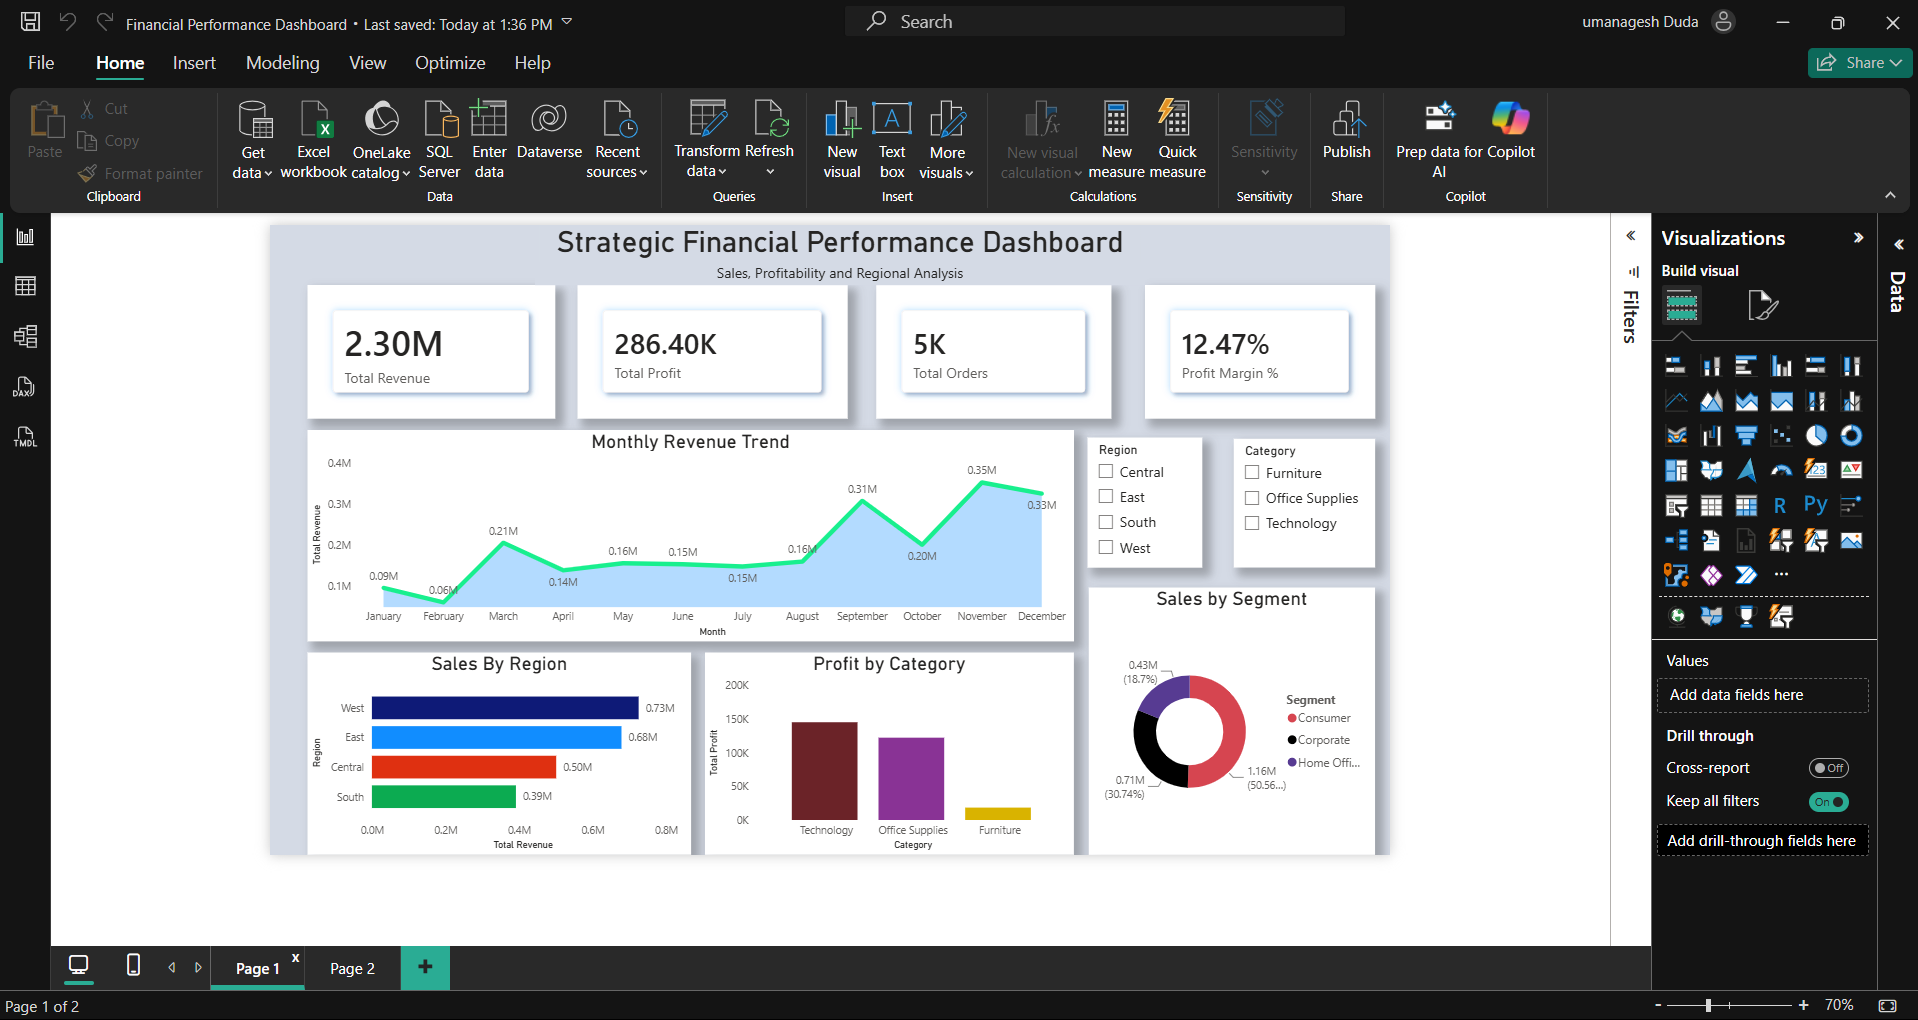

What the dashboard file says about the page in this screenshot:
{"tool":"powerbi","page":{"name":"Page 1","canvas":[1280,720],"ordinal":0},"visuals":[{"type":"cardVisual","fields":{"Data":["Sample - Superstore.Total Revenue"]},"box":[42.9,68.6,282.9,152.9],"z":0},{"type":"cardVisual","fields":{"Data":["Sample - Superstore.Total Profit"]},"box":[351.4,68.6,308.6,152.9],"z":1000},{"type":"cardVisual","fields":{"Data":["Sample - Superstore.Total Orders"]},"box":[692.9,68.6,268.6,152.9],"z":2000},{"type":"cardVisual","fields":{"Data":["Sample - Superstore.Profit Margin %"]},"box":[1000,68.6,262.9,152.9],"z":3000},{"type":"lineChart","title":"Monthly Revenue Trend","fields":{"Y":["Sample - Superstore.Total Revenue"],"Category":["Sample - Superstore.Order Date.Variation.Date Hierarchy.Month"]},"box":[42.9,234.3,875.7,241.4],"z":4000},{"type":"clusteredBarChart","title":"Sales By Region","fields":{"Y":["Sample - Superstore.Total Revenue"],"Category":["Sample - Superstore.Region"]},"box":[42.9,488.6,438.6,231.4],"z":5000},{"type":"clusteredColumnChart","title":"Profit by Category","fields":{"Category":["Sample - Superstore.Category"],"Y":["Sample - Superstore.Total Profit"]},"box":[497.1,488.6,421.4,231.4],"z":6000},{"type":"slicer","fields":{"Values":["Sample - Superstore.Region"]},"box":[934.3,242.9,131.4,148.6],"z":7000},{"type":"slicer","fields":{"Values":["Sample - Superstore.Category"]},"box":[1101.4,244.3,161.4,147.1],"z":8000},{"type":"textbox","title":"Strategic Financial Performance Dashboard","box":[302.9,0,697.1,68.6],"z":9000},{"type":"donutChart","title":"Sales by Segment","fields":{"Category":["Sample - Superstore.Segment"],"Y":["Sum(Sample - Superstore.Sales)"]},"box":[935.7,414.3,327.1,305.7],"z":10000}]}

Visuals, with their boxes on the page's 1280x720 design canvas (x1, y1, x2, y2). These are canvas units, not pixel positions in the 1918x1020 screenshot, which may show the page scaled, cropped or inside an application window:
cardVisual - Sample - Superstore.Total Revenue: rect(43, 69, 326, 222)
cardVisual - Sample - Superstore.Total Profit: rect(351, 69, 660, 222)
cardVisual - Sample - Superstore.Total Orders: rect(693, 69, 962, 222)
cardVisual - Sample - Superstore.Profit Margin %: rect(1000, 69, 1263, 222)
"Monthly Revenue Trend" lineChart: rect(43, 234, 919, 476)
"Sales By Region" clusteredBarChart: rect(43, 489, 482, 720)
"Profit by Category" clusteredColumnChart: rect(497, 489, 918, 720)
slicer - Sample - Superstore.Region: rect(934, 243, 1066, 392)
slicer - Sample - Superstore.Category: rect(1101, 244, 1263, 391)
"Strategic Financial Performance Dashboard" textbox: rect(303, 0, 1000, 69)
"Sales by Segment" donutChart: rect(936, 414, 1263, 720)
